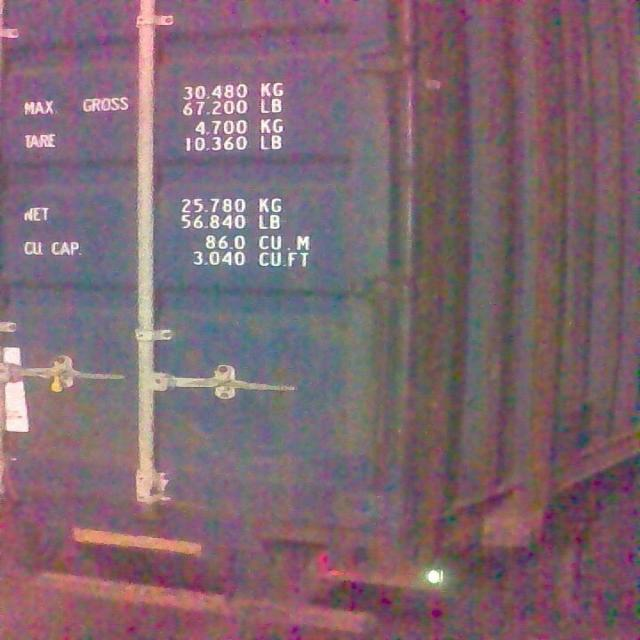seal: (44, 364, 72, 395)
